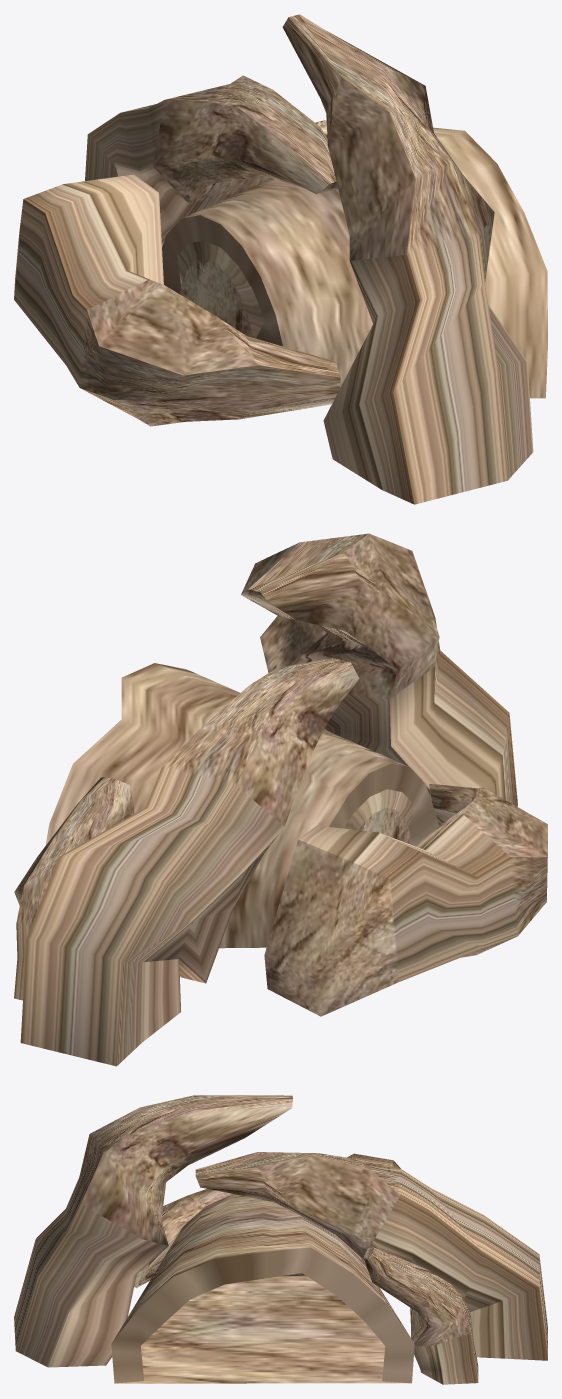
The model's file is caverna savana.fbx.
3 renders of one model, top to bottom at view 1: azimuth 30°, elevation 25°; view 2: azimuth 150°, elevation 25°; view 3: azimuth 270°, elevation 25°, orthographic. The views are drawn at different scales.
Parts seen in each view (by area): view 1: pasted__pCube1, pasted__pCube3, pCylinder1, pCube1; view 2: pCube1, pasted__pCube3, pasted__pCube1, pCylinder1, pasted__pCube2; view 3: pCylinder1, pasted__pCube1, pCube1, pasted__pCube2, pasted__pCube3.
Boxes of the visible parts, <box> form: pasted__pCube1: <box>282,14,533,504</box>; pasted__pCube3: <box>14,174,340,426</box>; pCylinder1: <box>162,127,547,398</box>; pCube1: <box>85,75,338,246</box>; pCube1: <box>20,658,359,1066</box>; pasted__pCube3: <box>264,784,547,1016</box>; pasted__pCube1: <box>241,533,517,806</box>; pCylinder1: <box>45,663,438,948</box>; pasted__pCube2: <box>14,777,134,1000</box>; pCylinder1: <box>111,1194,414,1383</box>; pasted__pCube1: <box>14,1095,292,1367</box>; pCube1: <box>195,1152,547,1360</box>; pasted__pCube2: <box>364,1247,478,1384</box>; pasted__pCube3: <box>134,1153,400,1288</box>.
Size of the model in its own units: 4.16 by 3.39 by 6.67.
